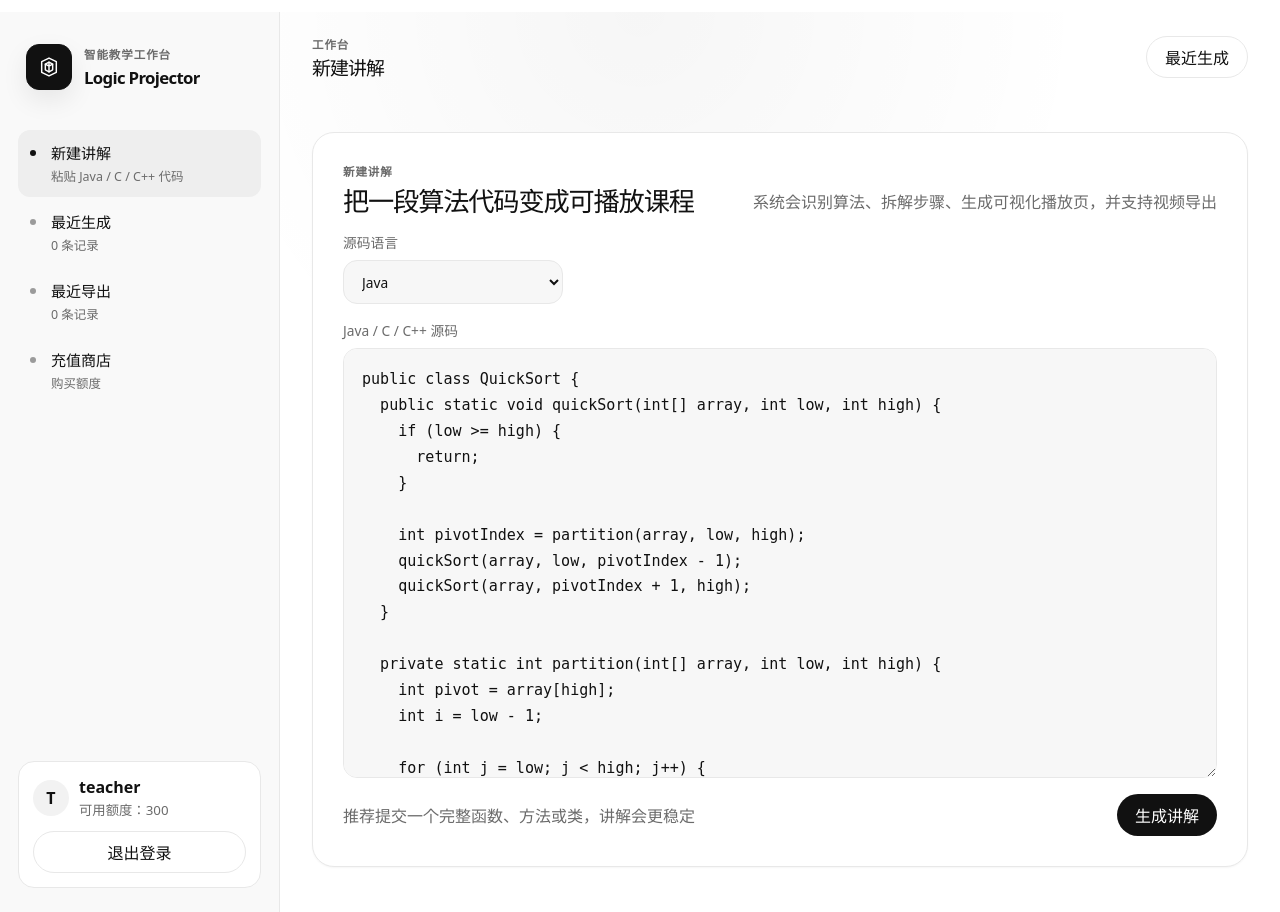
Test: App › allows scrubbing timeline and changing playback speed
Step 1. Submit the form, box [312, 132, 1248, 867]
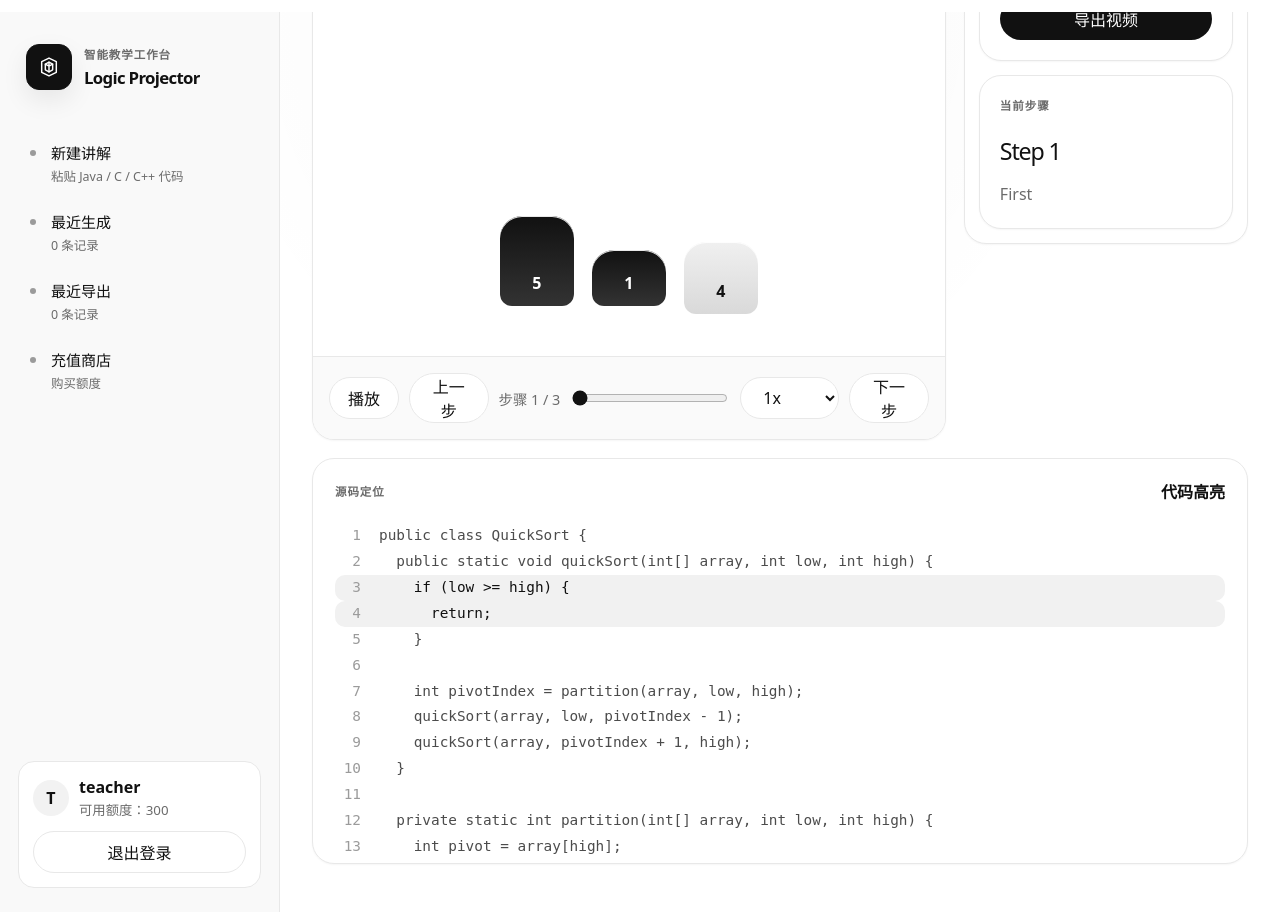
Step 2. Select "2x" in the dropdown named "播放速度" → (790, 398), box [740, 377, 839, 419]
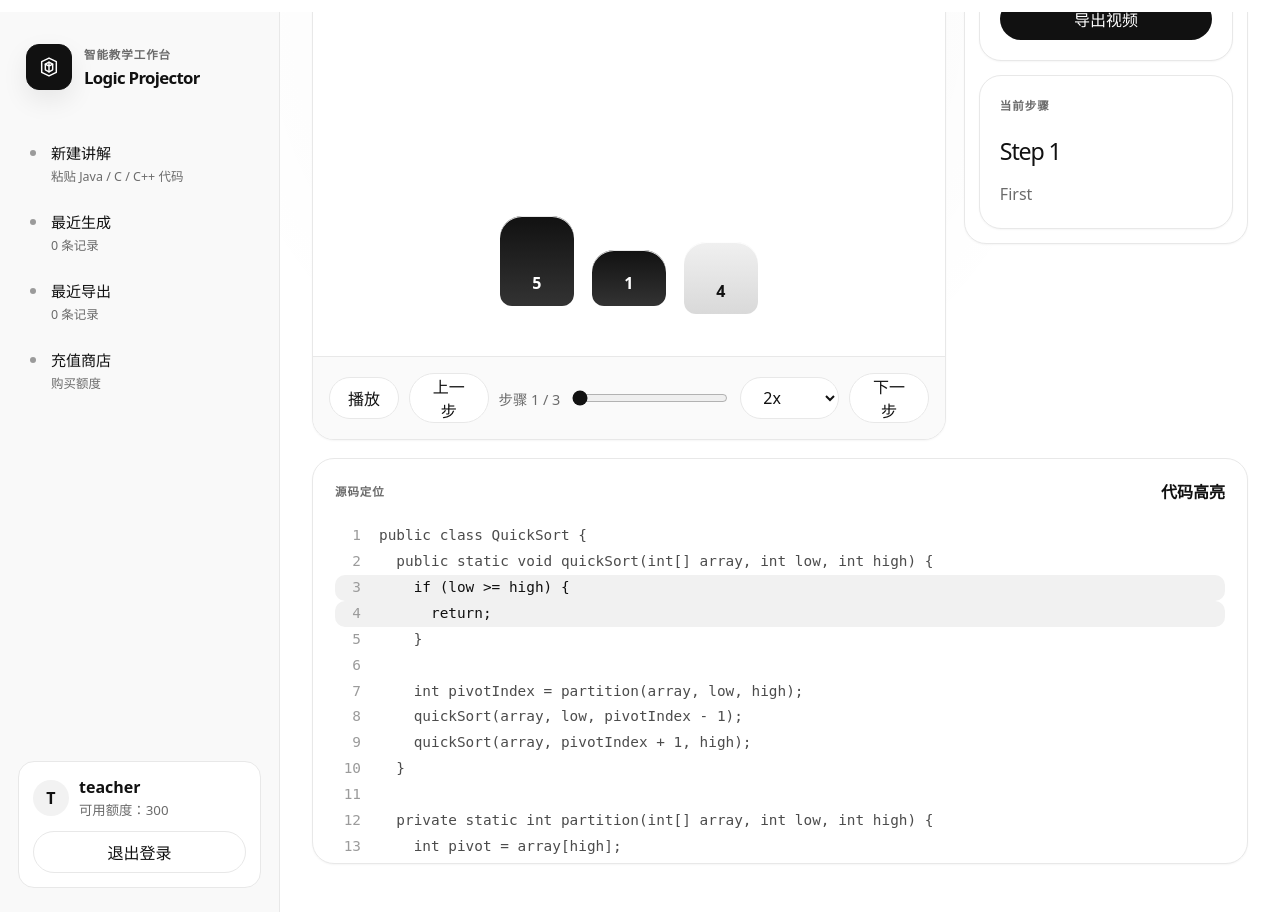
Step 3. Set the slider to "1" → (650, 398), box [572, 390, 728, 406]
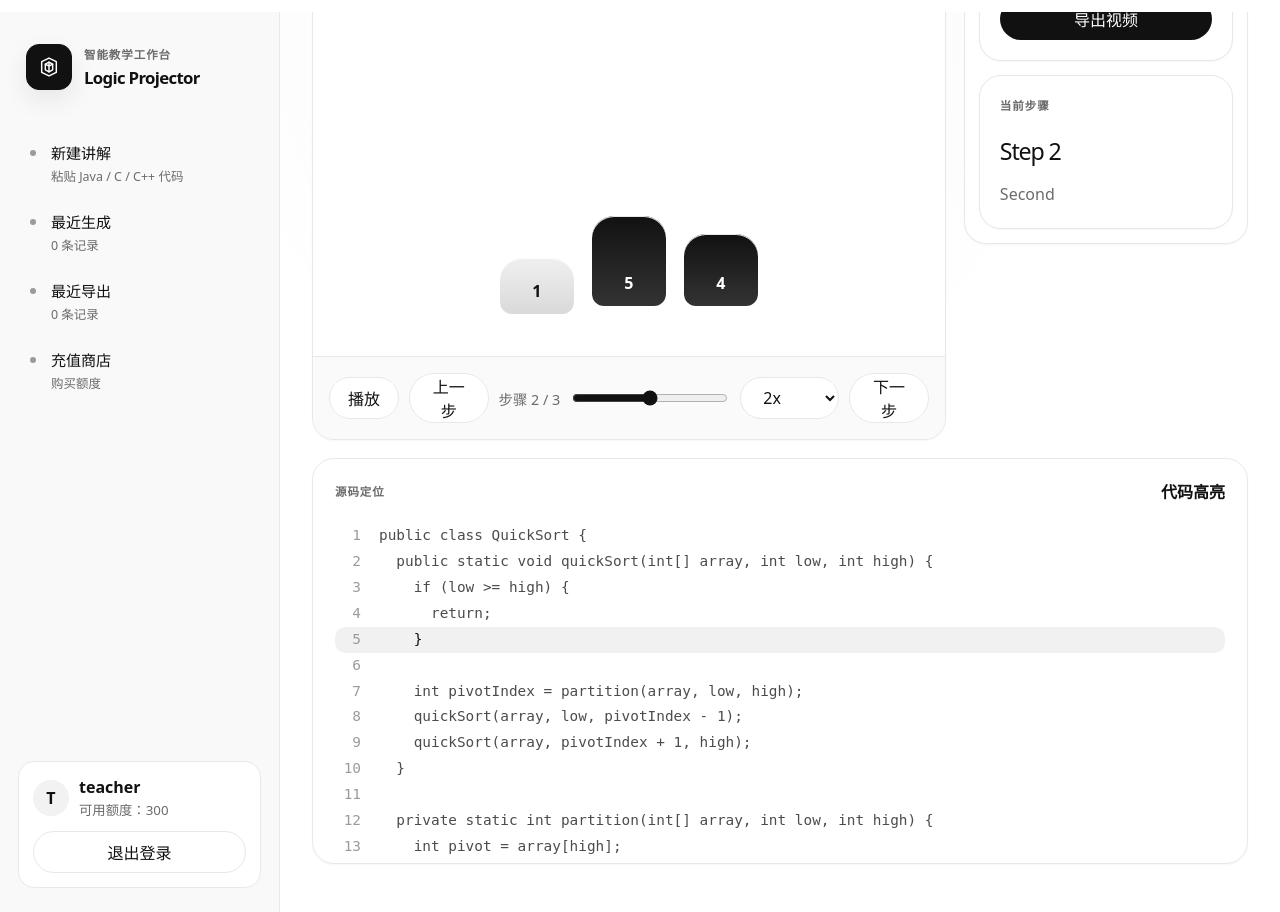
Now the text "Step 2" is shown, box [1000, 135, 1061, 167]
Step 4. Click the button "播放" → (364, 398), box [329, 377, 399, 419]
Wait 800 ms
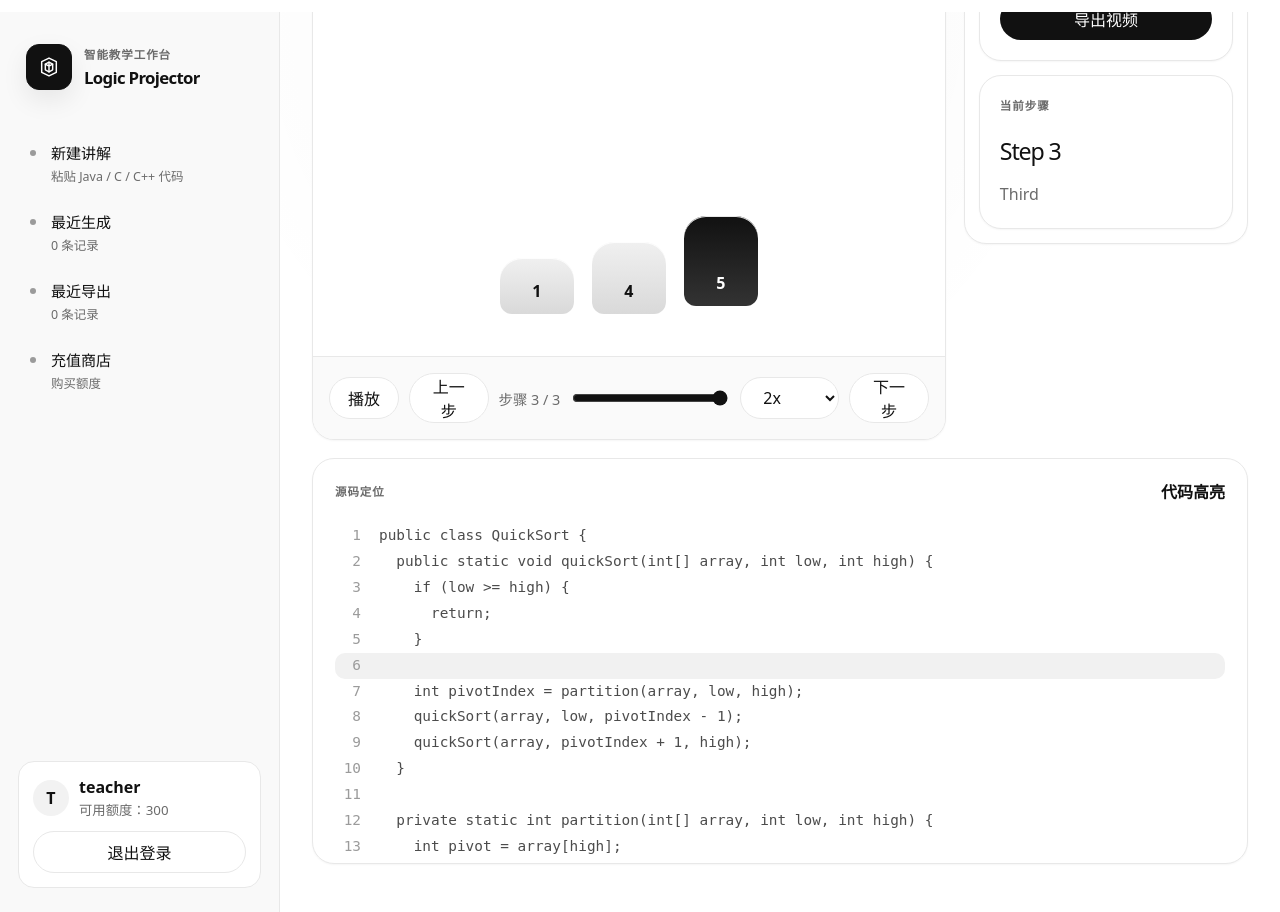
Now the text "步骤 3 / 3" is shown, box [498, 388, 560, 408]
